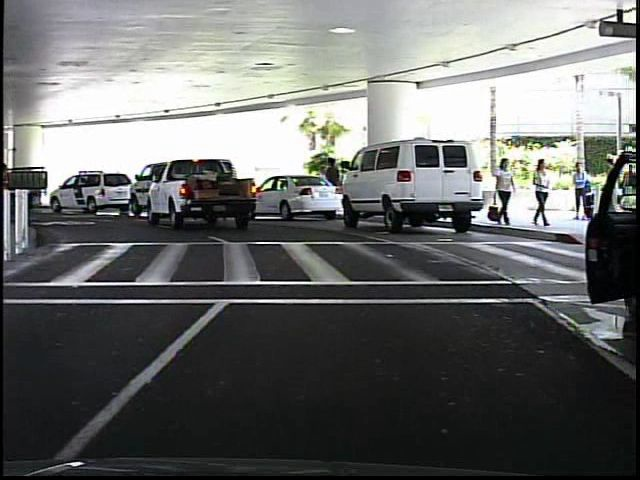person: (528, 155, 556, 230), (567, 159, 593, 222), (493, 154, 515, 227), (325, 154, 346, 213)
